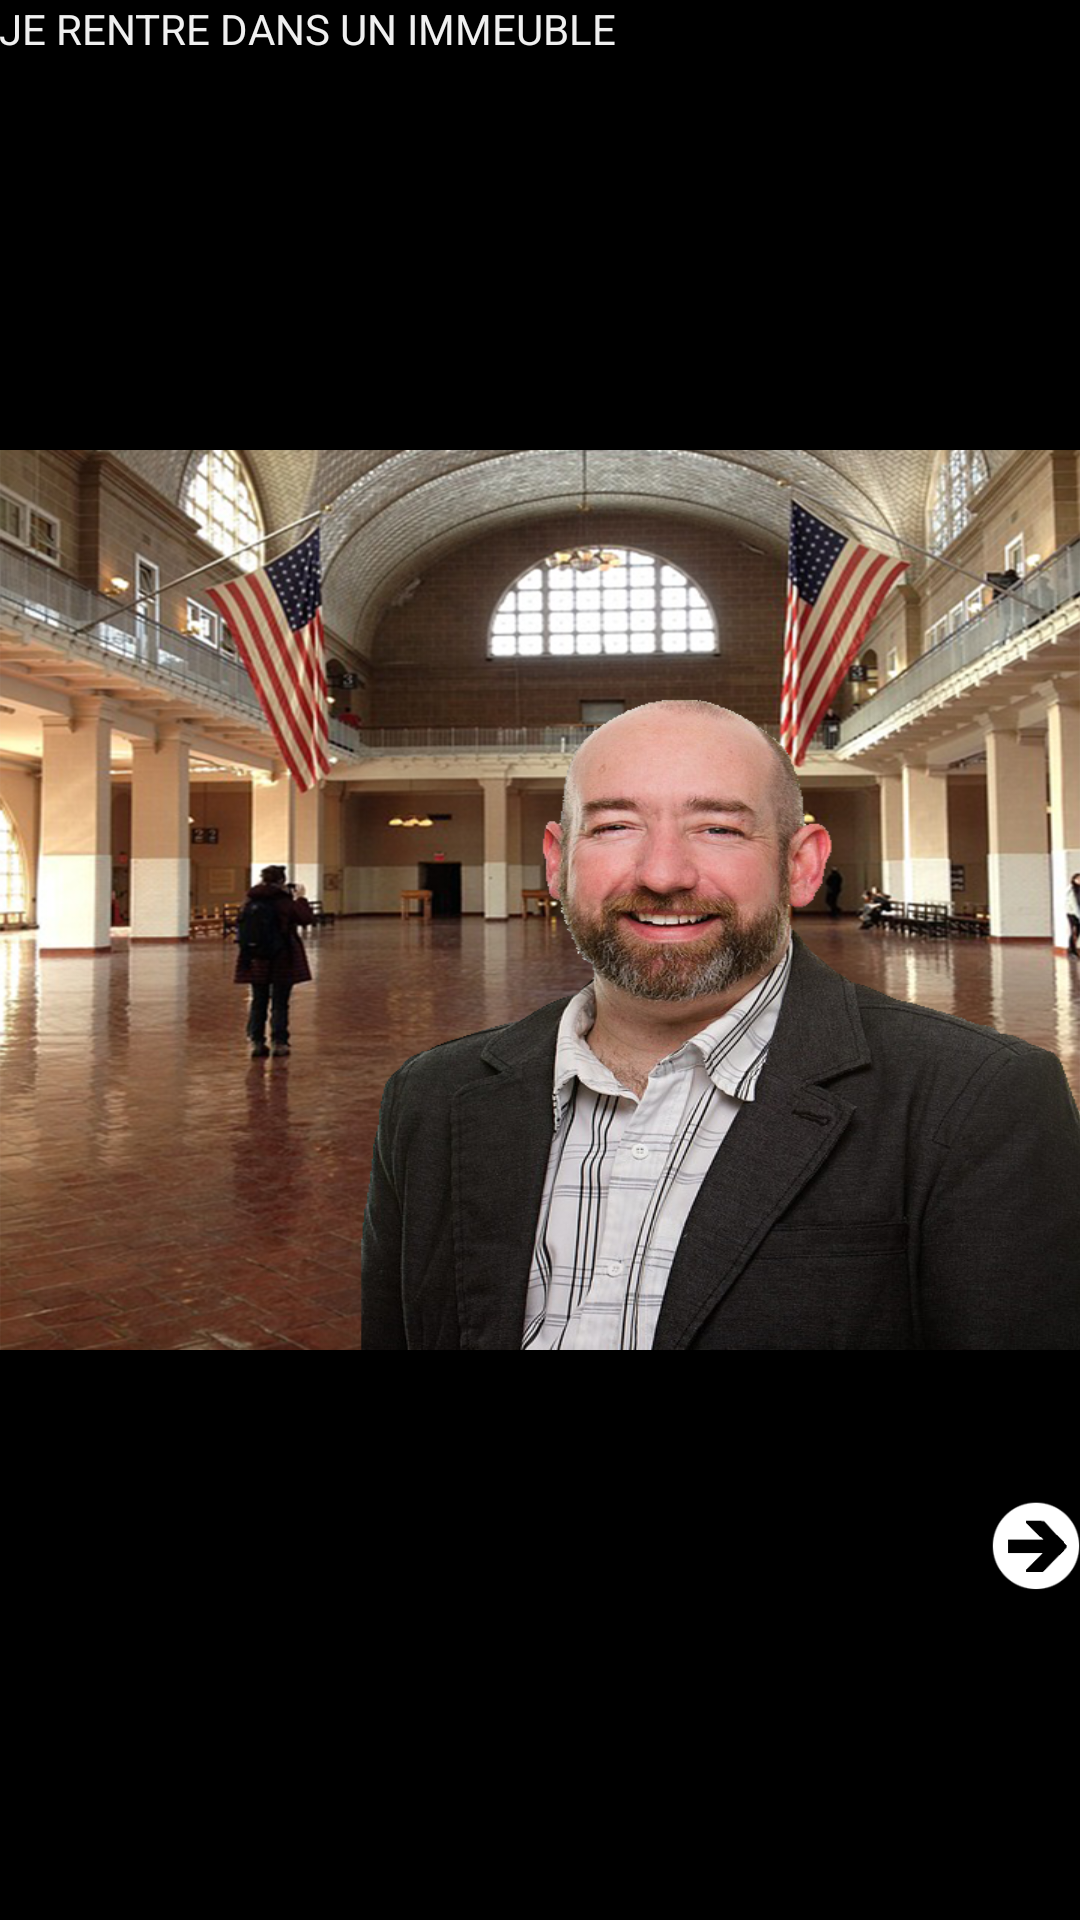

Named icons in this screenshot (1080*1920) and their centers, point (x, y):
bouton fleche droite: point (1036, 1545)
